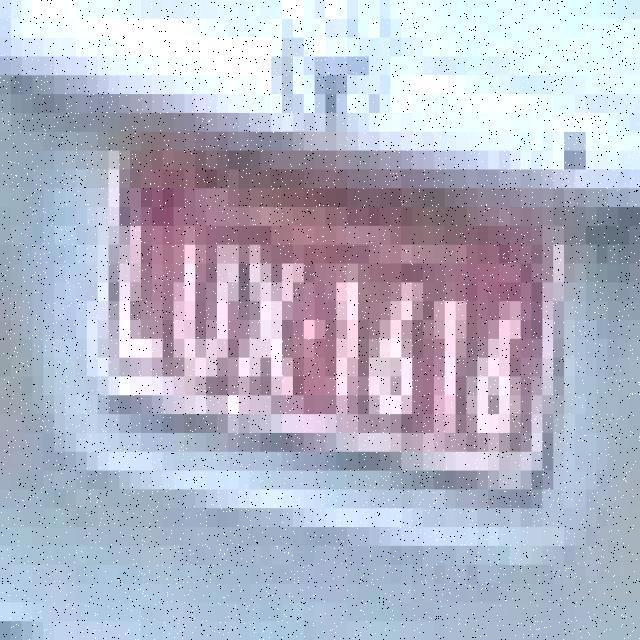LicensePlate: (89, 120, 567, 503)
